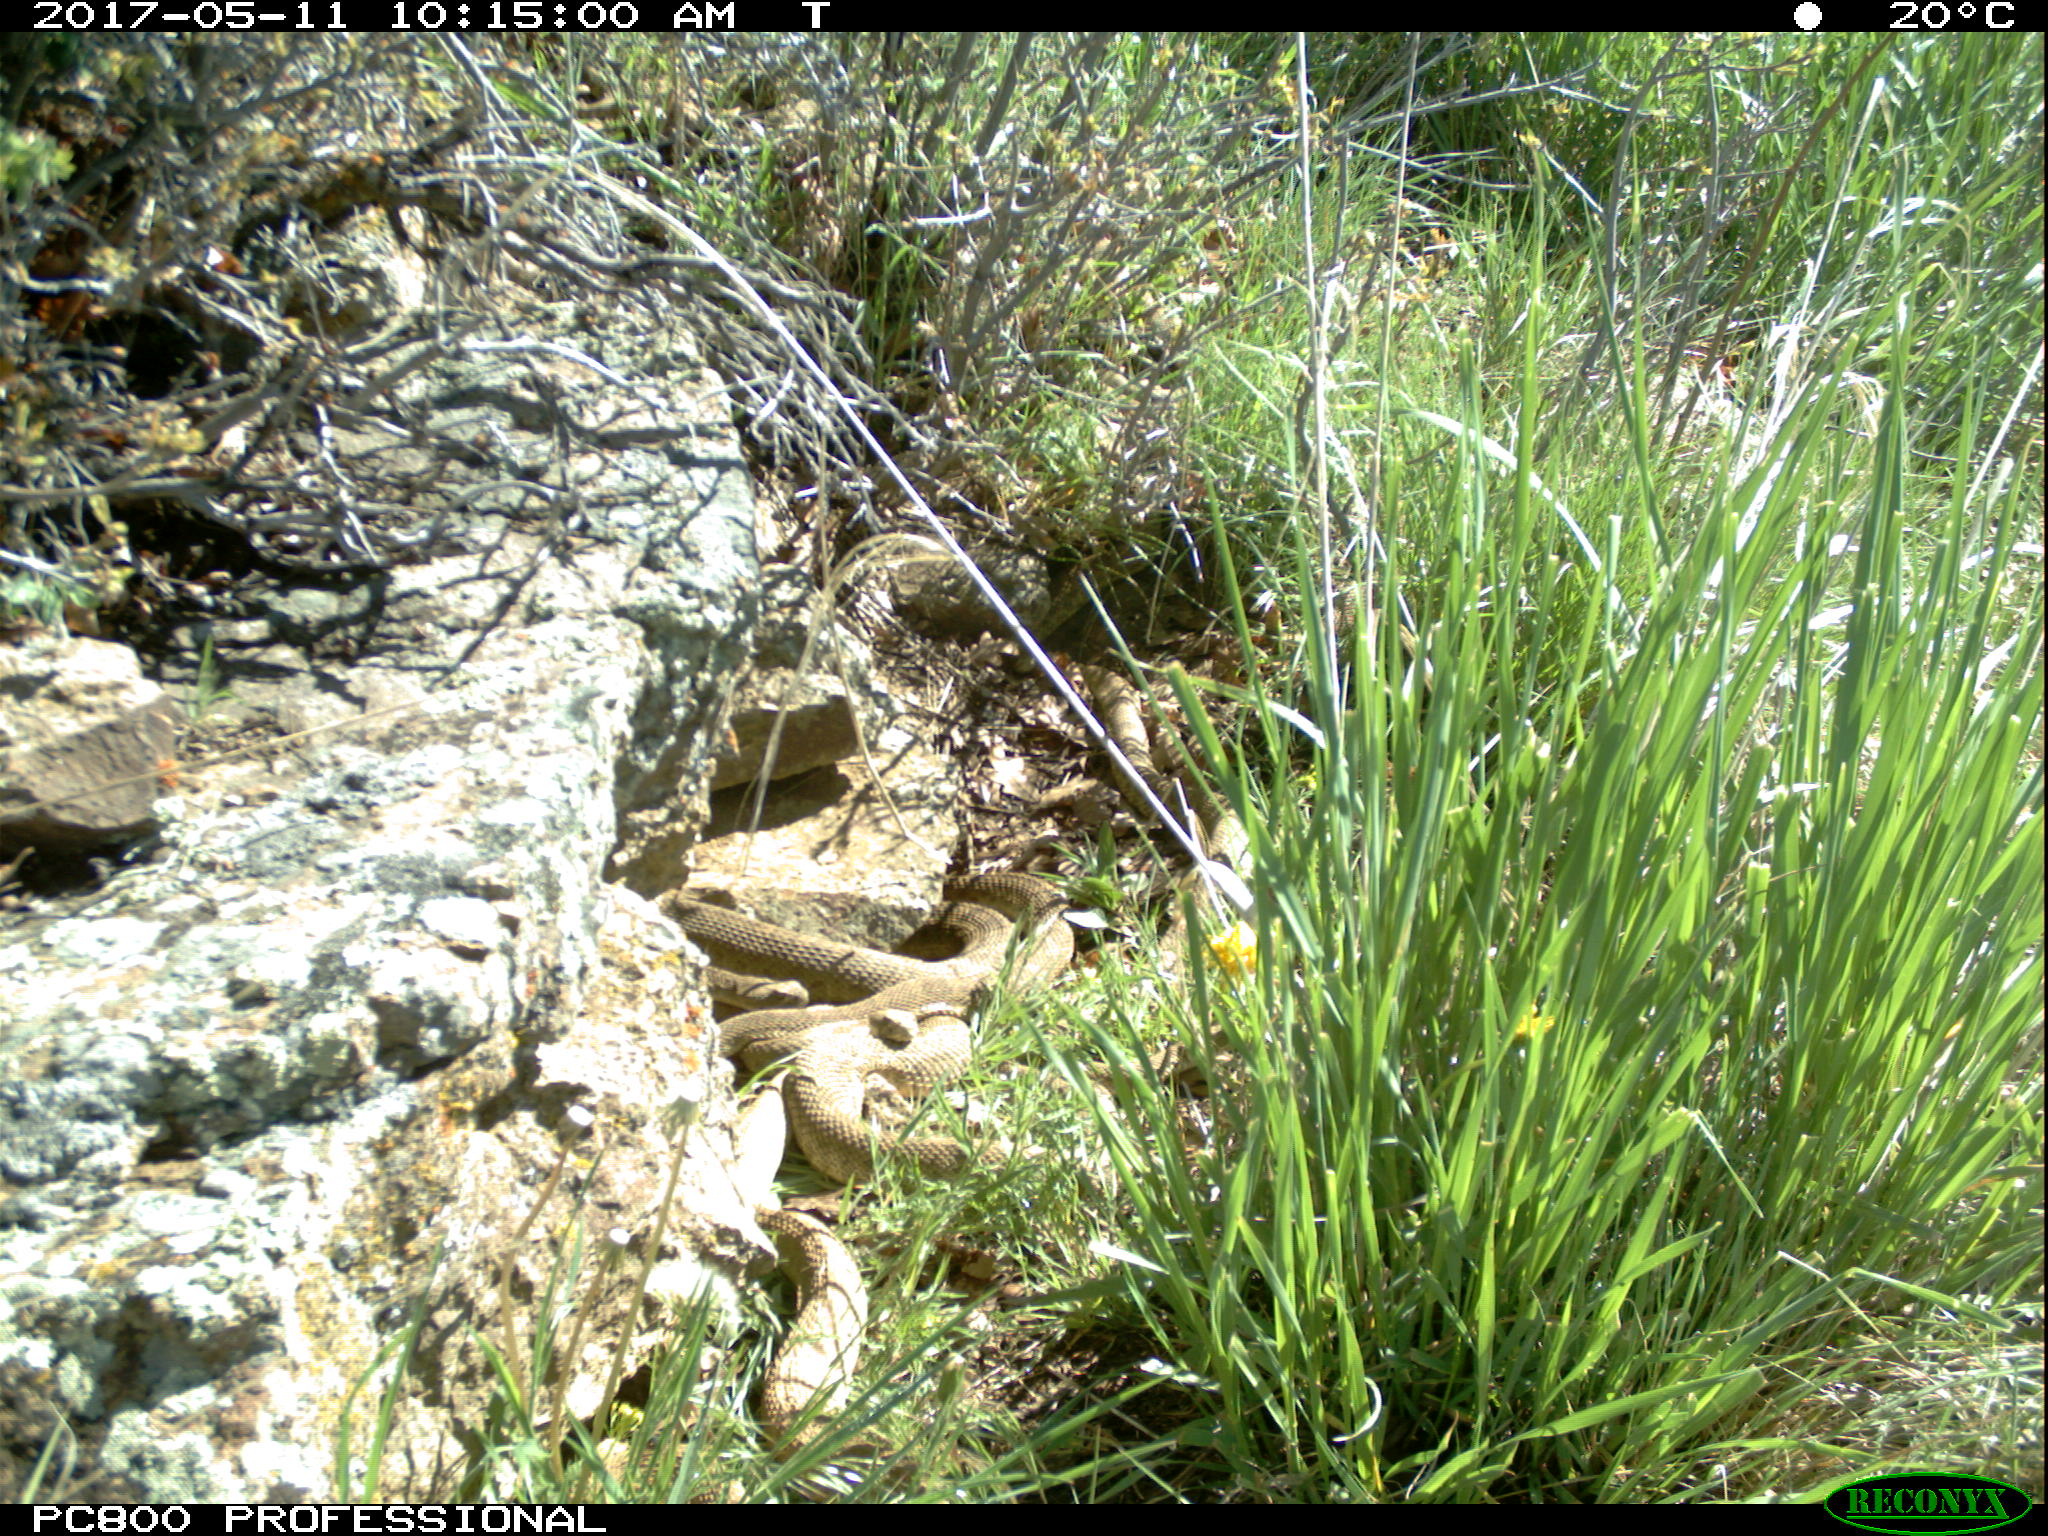snake: (698, 1005, 1013, 1192), (664, 902, 1076, 1015), (750, 1200, 872, 1463), (1077, 663, 1197, 829), (937, 866, 1085, 995)
